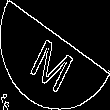M_NE: (29, 21, 81, 89)
